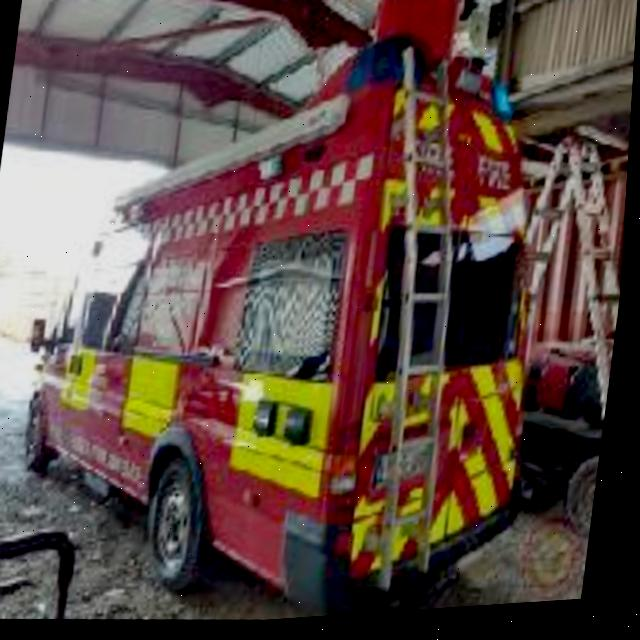emergency: (8, 39, 561, 610)
